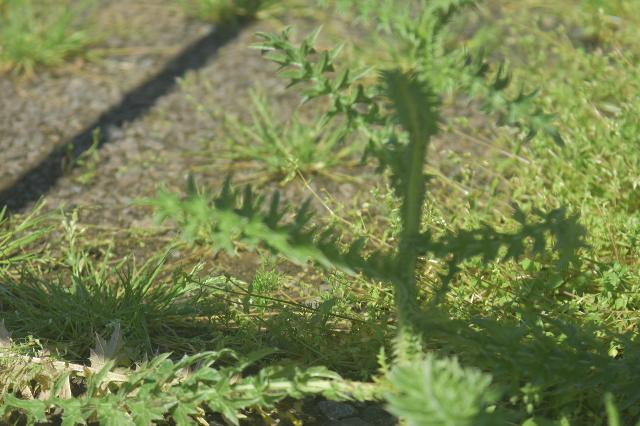MalezaMontesDelPlata: (389, 2, 640, 300), (143, 165, 442, 309), (233, 19, 443, 177), (4, 342, 376, 426), (378, 310, 640, 426), (0, 263, 234, 341)
